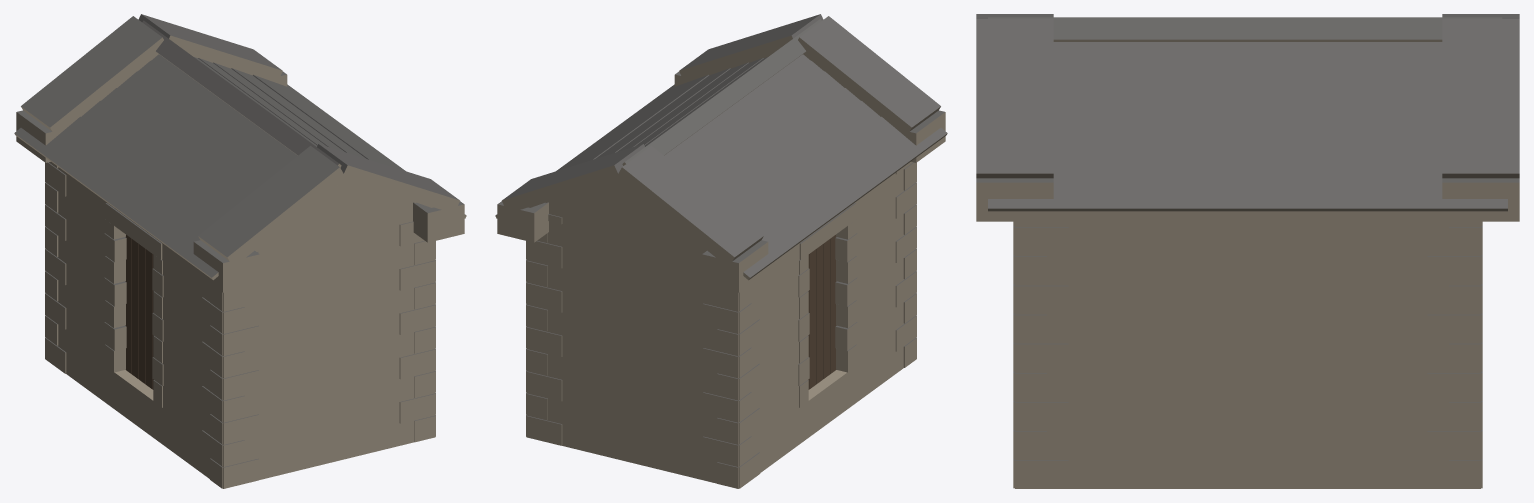
Rendered from context.dales.barn_01.glb.
The picture shows the model from 3 angles, left to right: view 1: azimuth 30°, elevation 25°; view 2: azimuth 150°, elevation 25°; view 3: azimuth 270°, elevation 25°; orthographic projection. The views are drawn at different scales.
Visible parts, largest first — view 1: main__stone_a98, main__slate_666, main__paint_654; view 2: main__stone_a98, main__slate_666, main__paint_654; view 3: main__stone_a98, main__slate_666.
Part boxes in pixels (x1,y1,x2,y2): main__stone_a98: (14, 35, 466, 488); main__slate_666: (14, 14, 465, 467); main__paint_654: (125, 235, 153, 389); main__stone_a98: (495, 35, 947, 488); main__slate_666: (496, 14, 947, 467); main__paint_654: (808, 235, 836, 389); main__stone_a98: (976, 39, 1519, 488); main__slate_666: (976, 14, 1519, 460).
Size of the model in its own units: 3.61 by 4.16 by 5.07.
